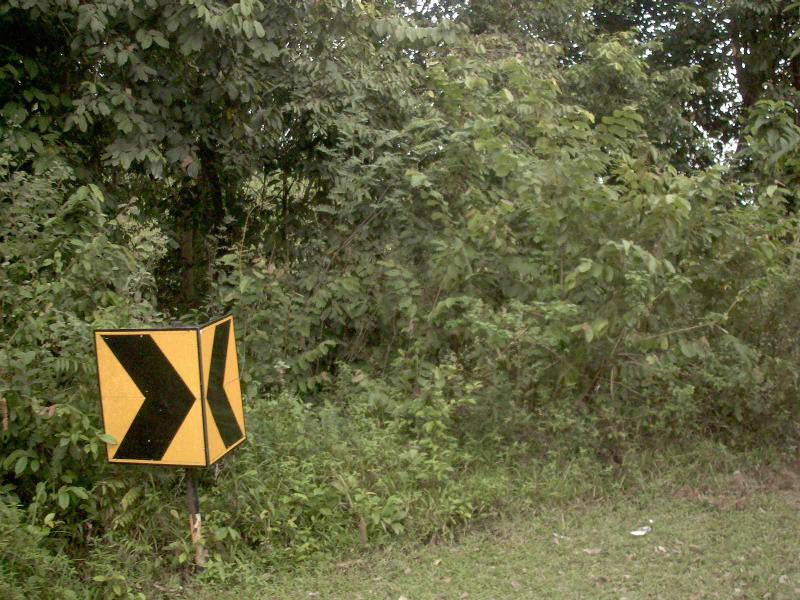traffic_sign: (81, 304, 213, 487)
